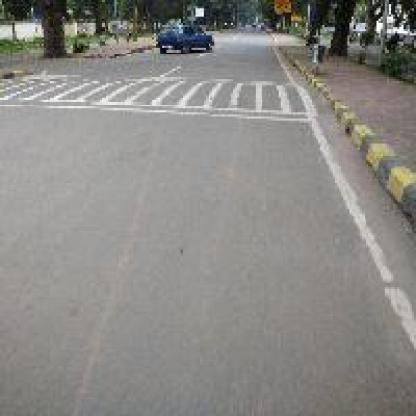Speed Bump: (0, 75, 308, 121)
